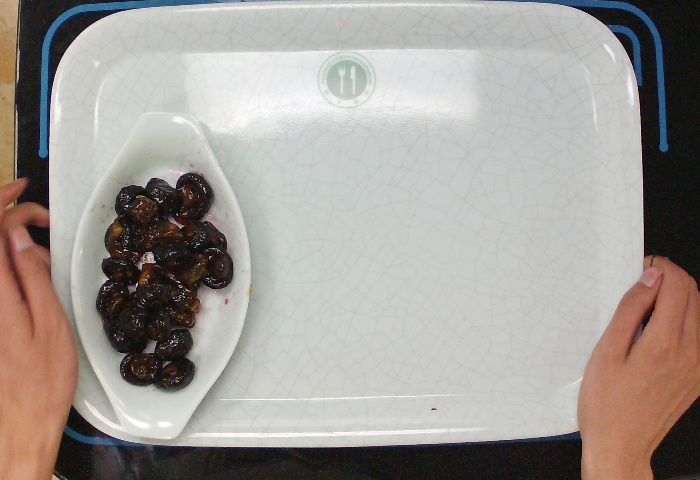JYsf-Yu_Pan: (67, 105, 259, 440)
